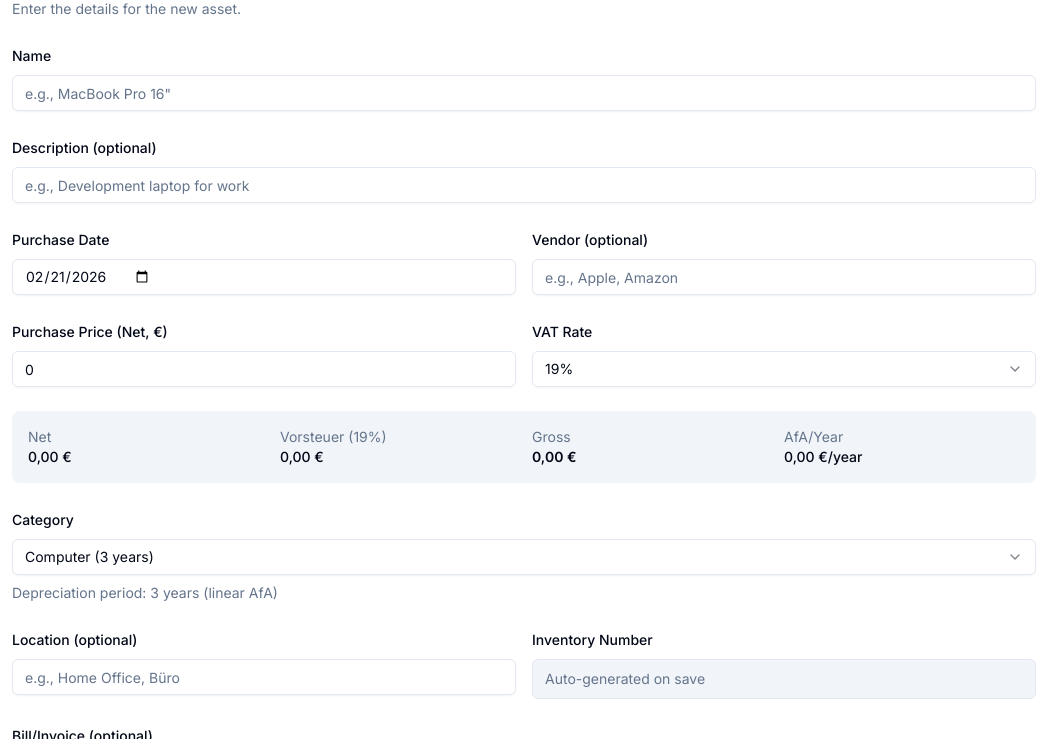
it: AssetForm › form submission › shows loading state during submission
In the field labelled "Name": (524, 93) [12, 75, 1036, 111], type "Test Asset"
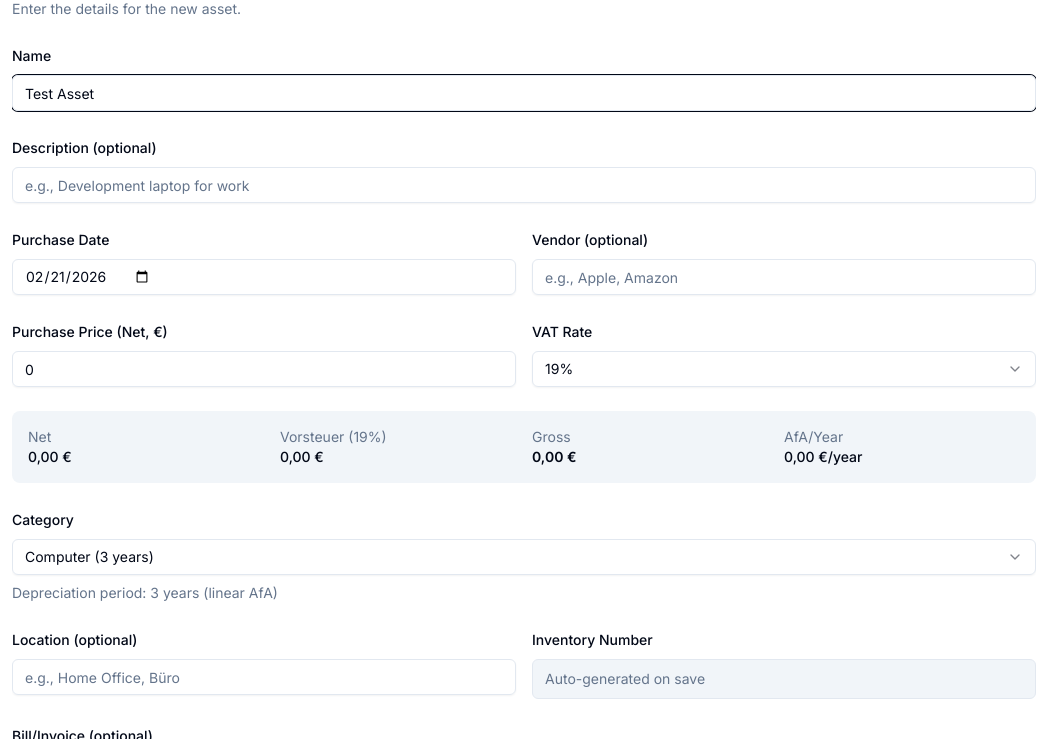
Replace the text in the number field labelled "Purchase Price (Net, €)" with "1000": (264, 369) [12, 351, 516, 387]
(page scrolled)
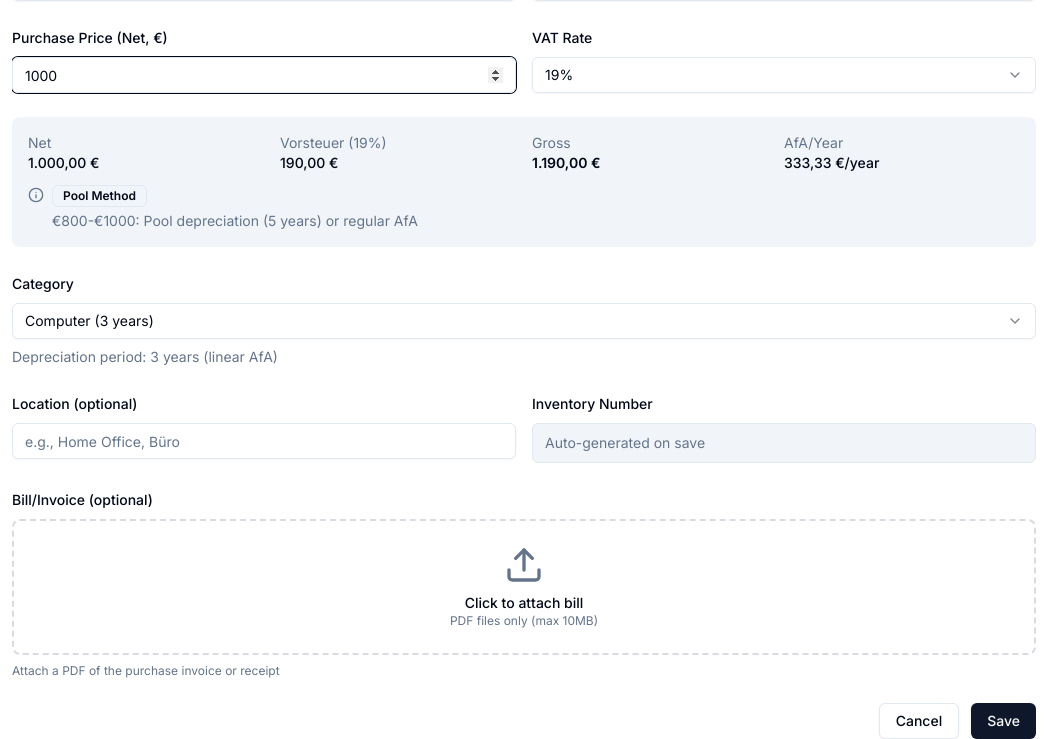
Click the button "Save": (1004, 721) [971, 703, 1036, 738]
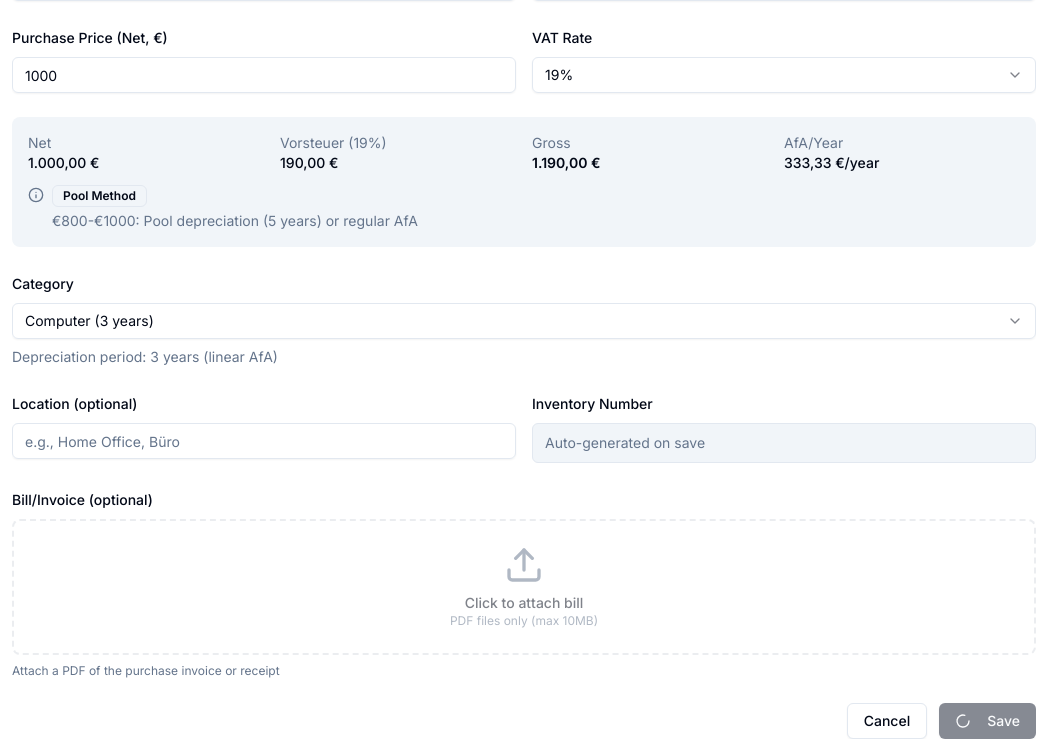
Now the button "Save" is disabled, box [939, 703, 1036, 738]
